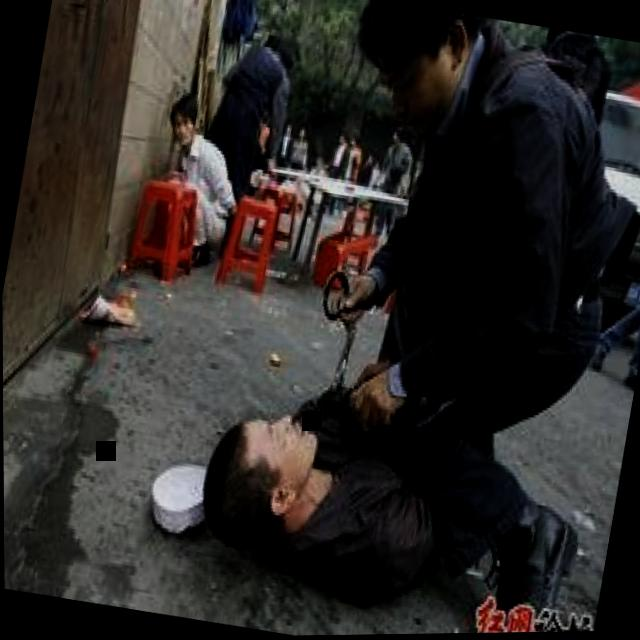Fall-Detected: (167, 333, 624, 638)
